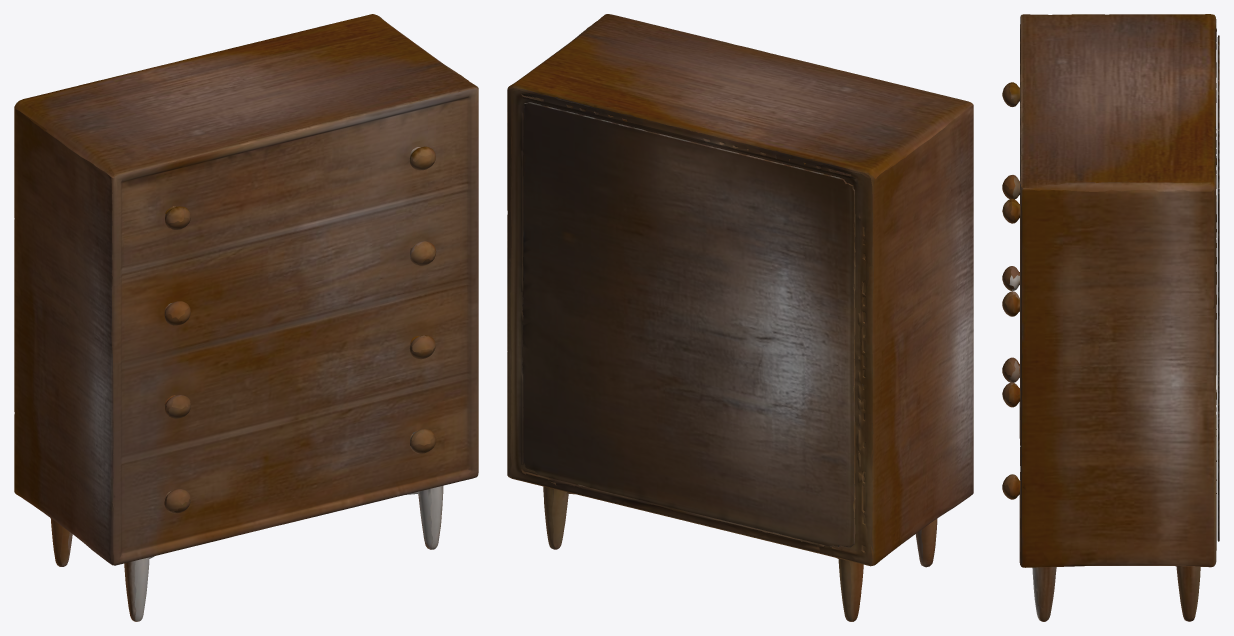
File: L_DRAWERS.industrial.glb
The picture shows the model from 3 angles, left to right: view 1: azimuth 30°, elevation 25°; view 2: azimuth 150°, elevation 25°; view 3: azimuth 270°, elevation 25°; orthographic projection. The views are drawn at different scales.
Parts seen in each view (by area): view 1: geometry_0; view 2: geometry_0; view 3: geometry_0.
Part boxes in pixels (bbox=[...]): geometry_0: bbox=[14, 14, 478, 621]; geometry_0: bbox=[507, 14, 973, 621]; geometry_0: bbox=[1002, 14, 1219, 621].
Size of the model in its own units: 0.8709 by 1.05 by 0.4574.
1 material, 1 textured.
